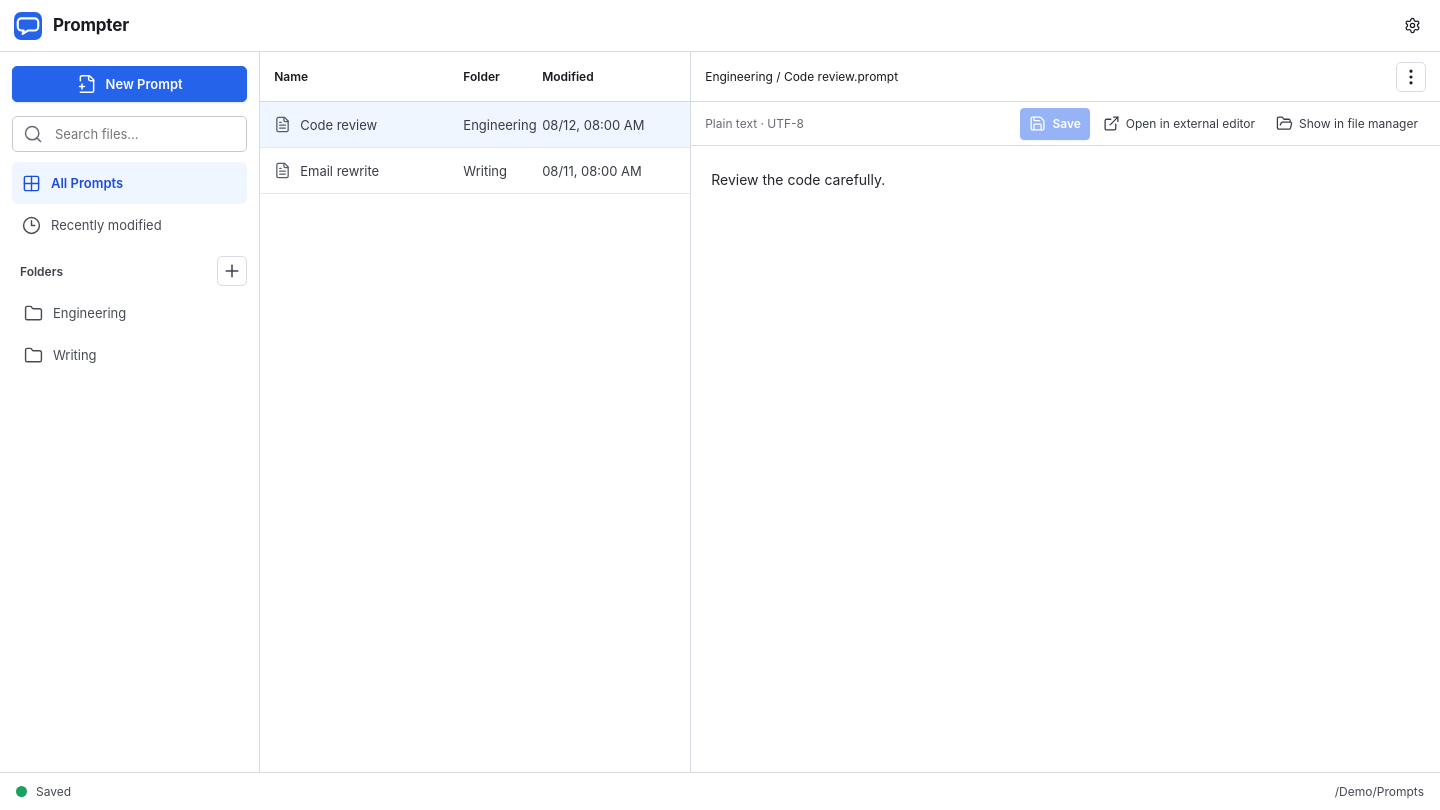
Test: Manager › reconciles the current document name when rename returns a stale document payload
The width and height of the screenshot is (1440, 810).
Expected: the text box showing "Review the code carefully." is shown, [691,146,1439,772]
Click the button named "Actions".
click(1411, 76)  # box [1396,62,1426,92]
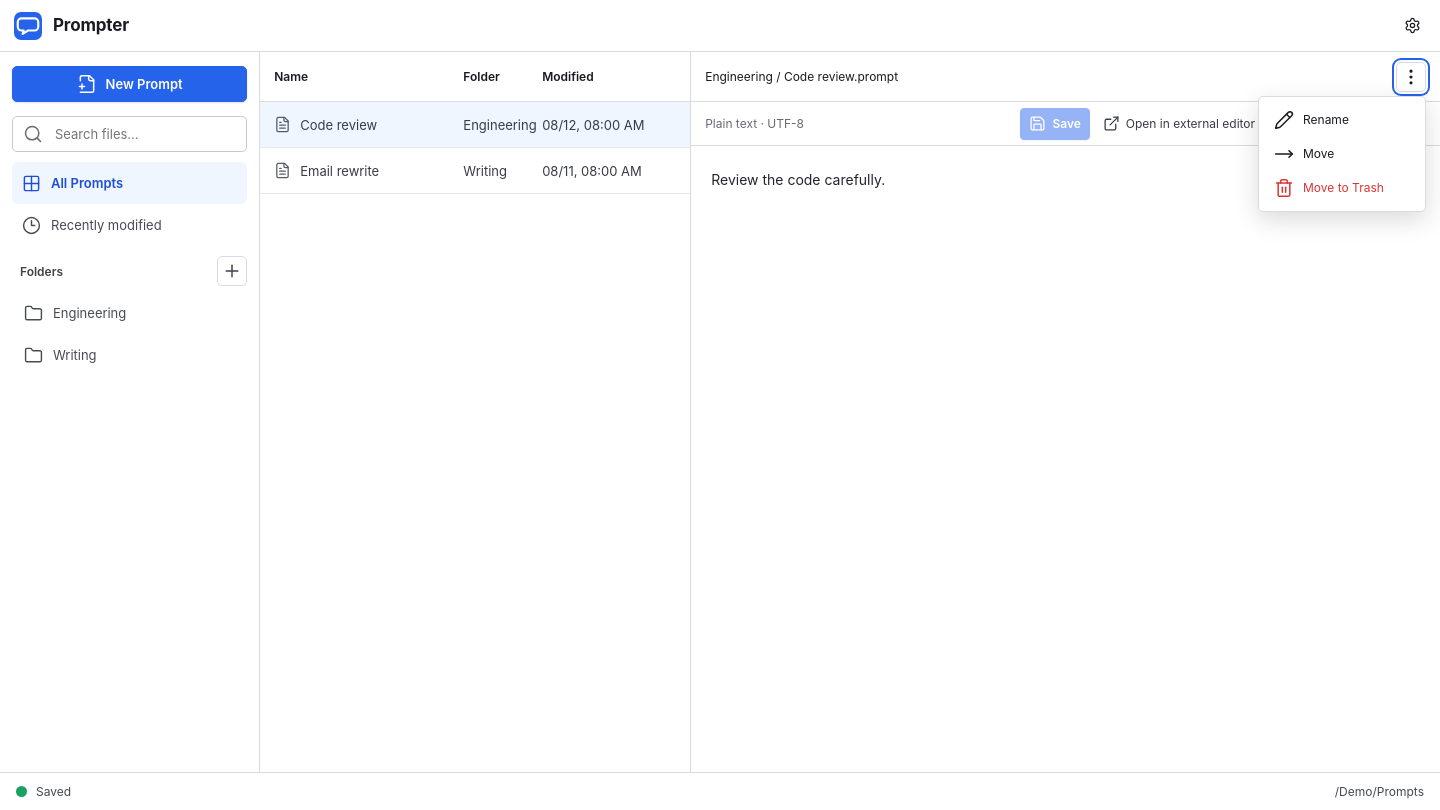
Click the button "Rename".
click(1342, 120)  # box [1265,102,1419,136]
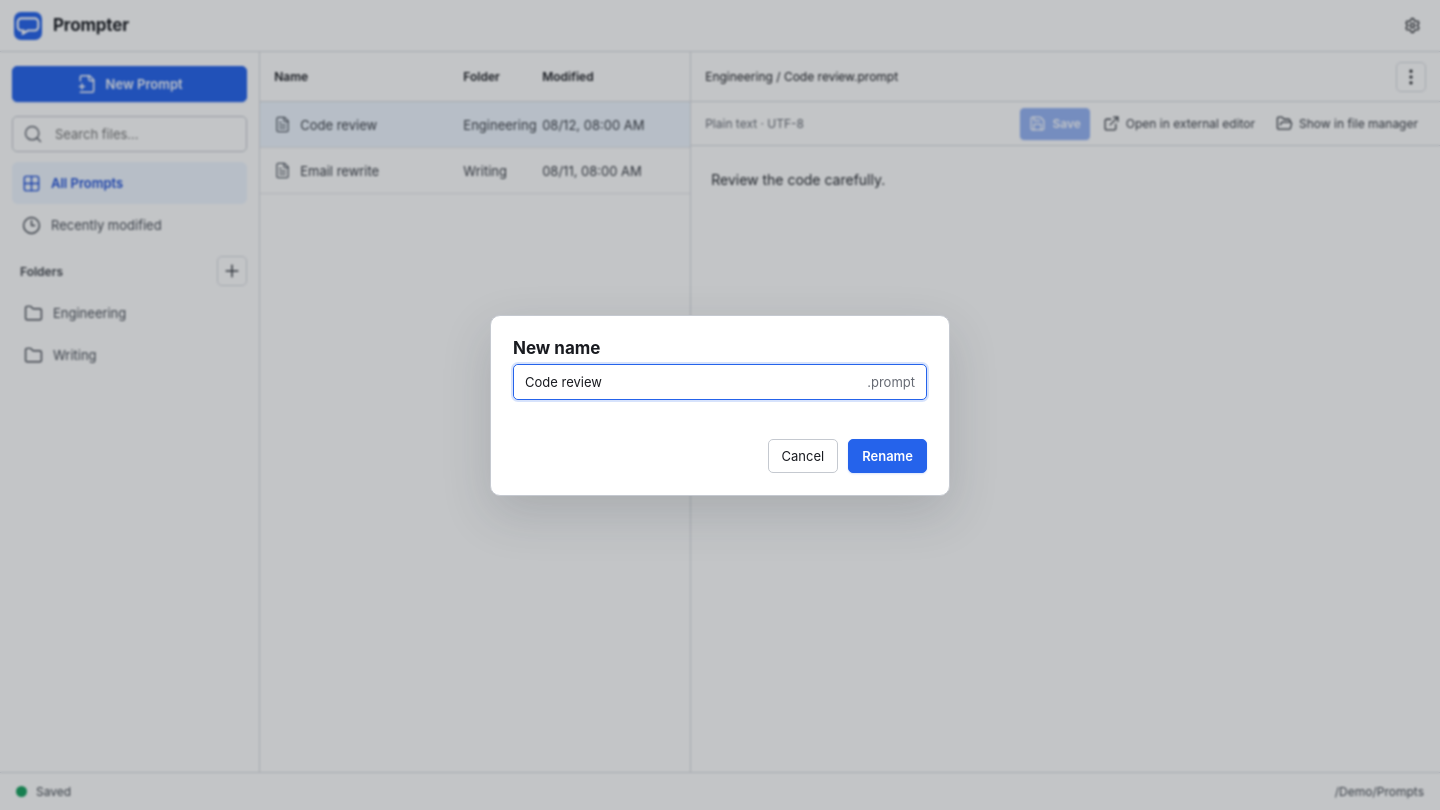
Replace the text in the field named "New name" with "Renamed review" at (691, 382), box [514,364,867,398]
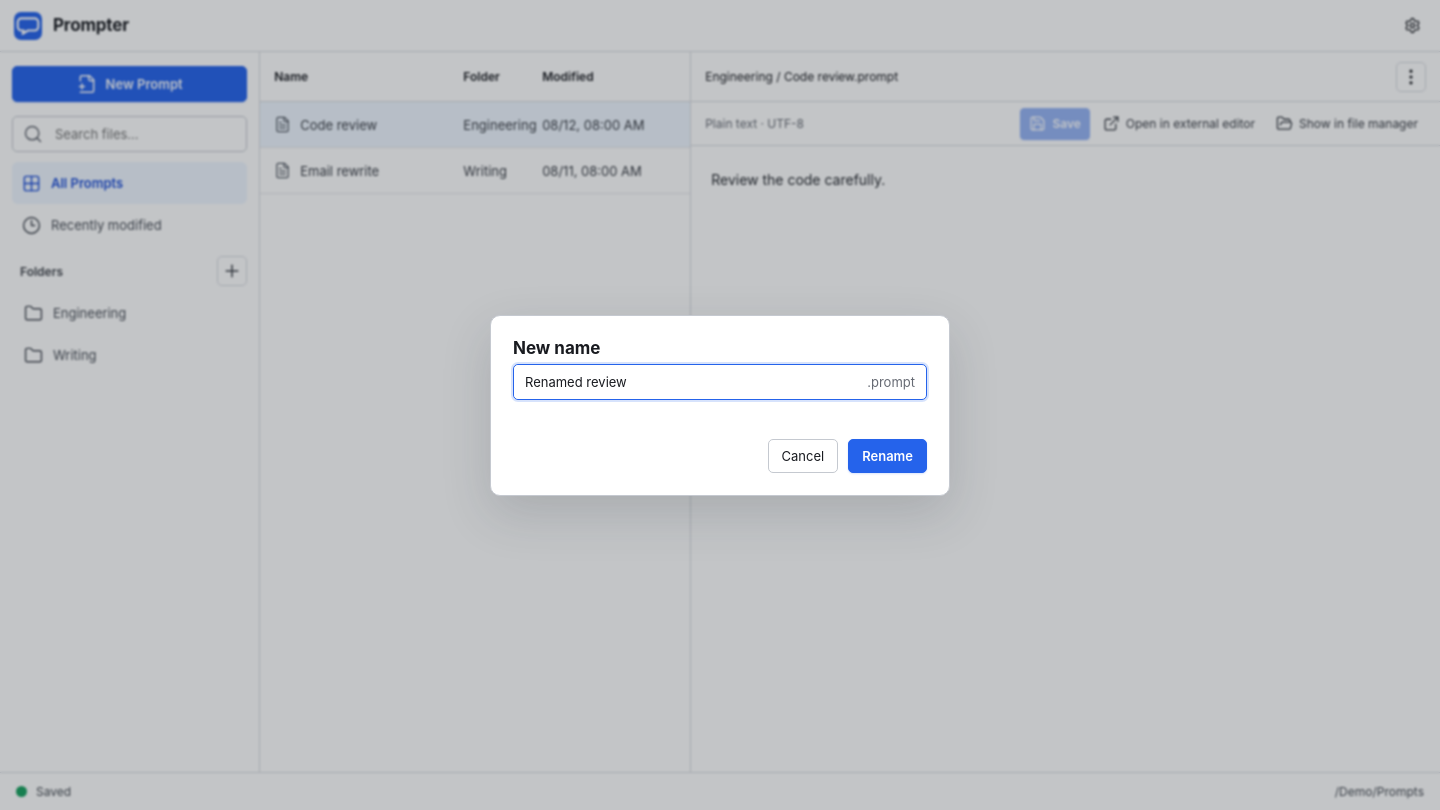
Click the button "Rename".
click(888, 456)  # box [848,438,927,472]
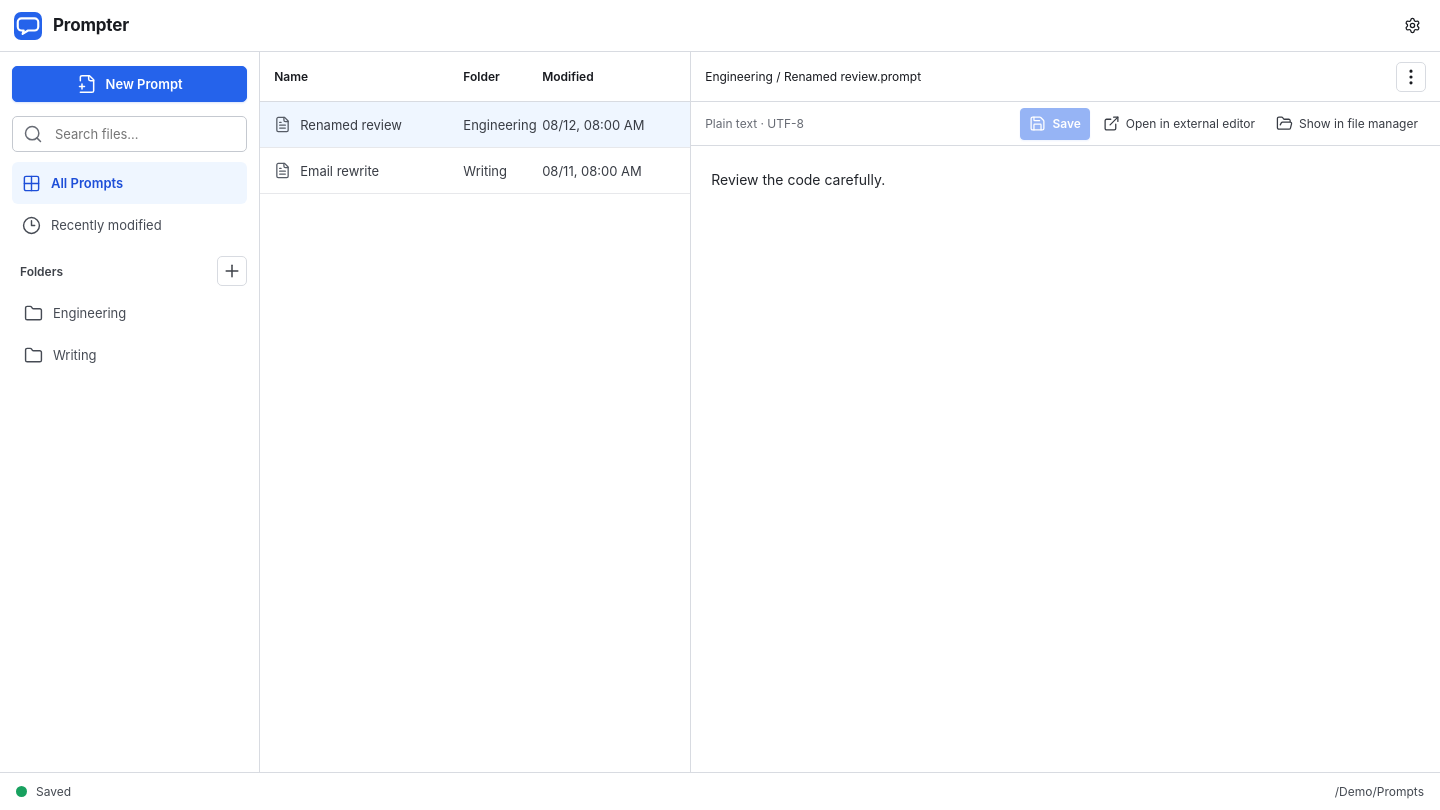
Expected: the text box named "Renamed review.prompt" holds "Review the code carefully.", [691,146,1439,772]
Now the text "Engineering / Renamed review.prompt" is shown, box [705,69,921,84]
